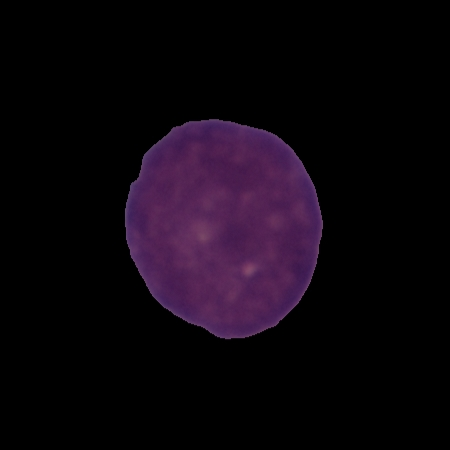HEM: (121, 115, 327, 342)
